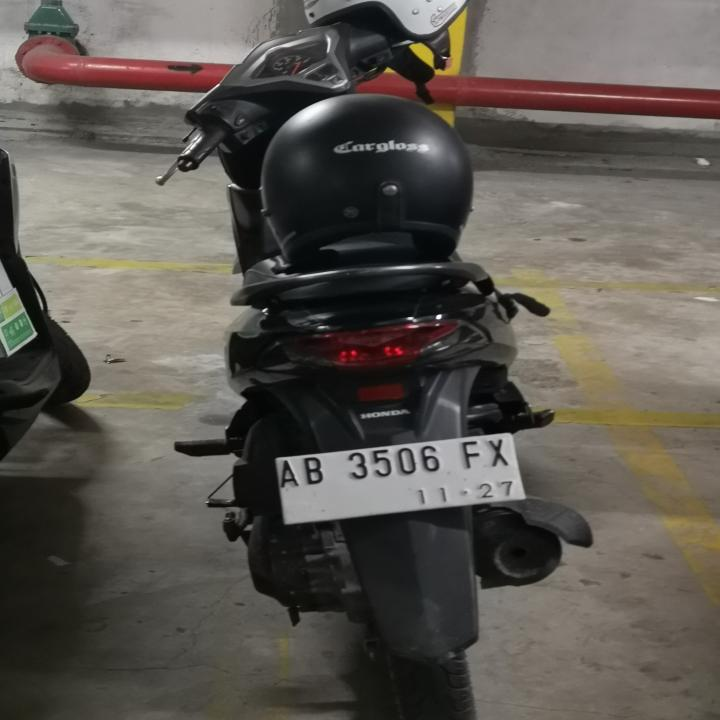plate: (270, 428, 532, 528)
